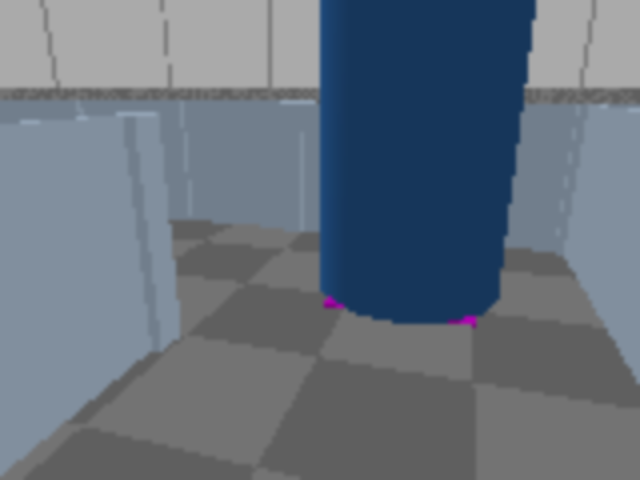person: (323, 0, 638, 322)
